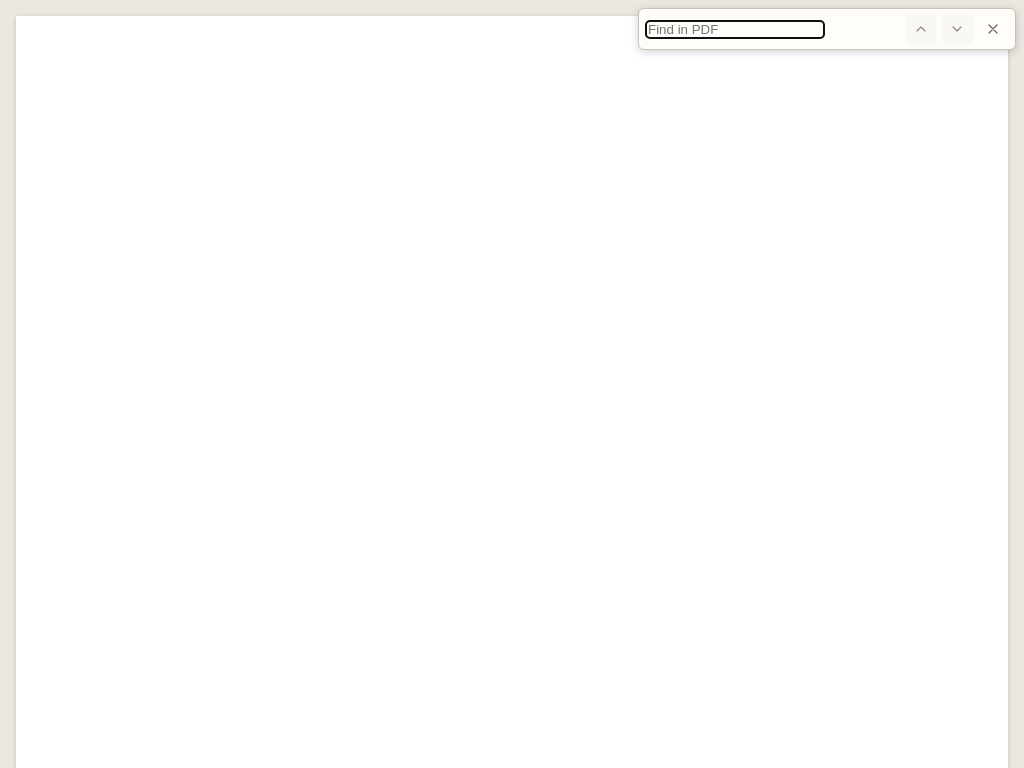
Test: Find in PDF (spec 008 US4) › Ctrl+F opens the bar; typing highlights every match and counts them
Earlier steps of the test are not shown.
Step 1. Type "lexy" into the search field labelled "Find in PDF" → (735, 29), box x1=645 y1=20 x2=825 y2=38
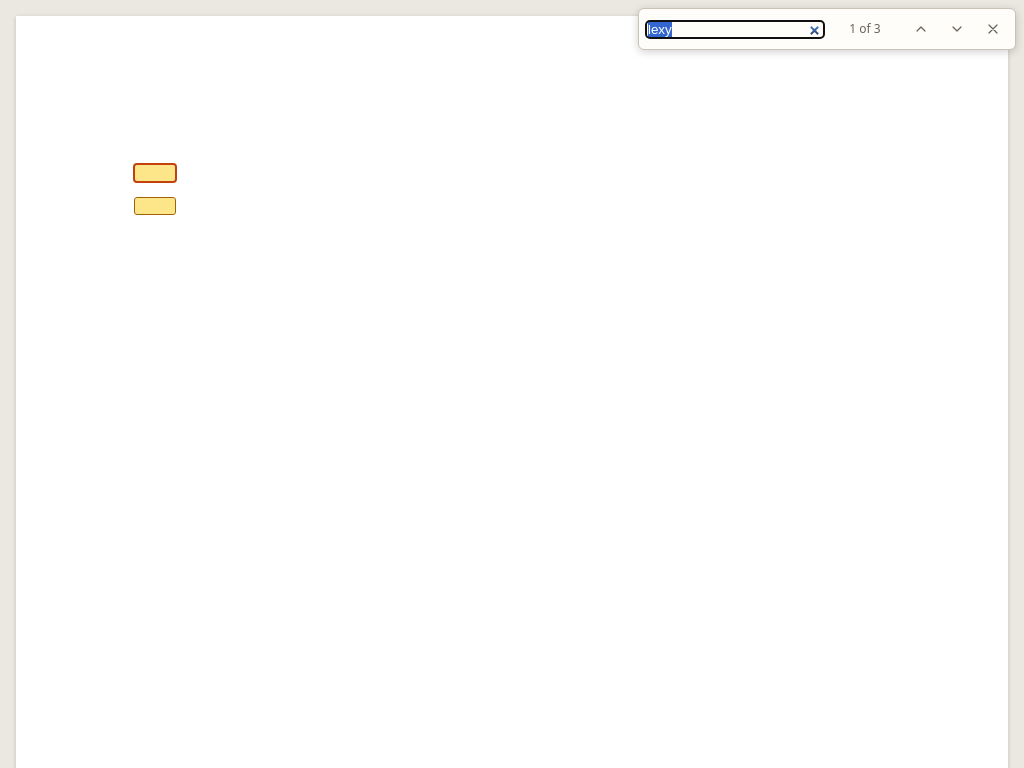
Expected: the text "1 of 3" is shown, x1=849 y1=20 x2=881 y2=37
